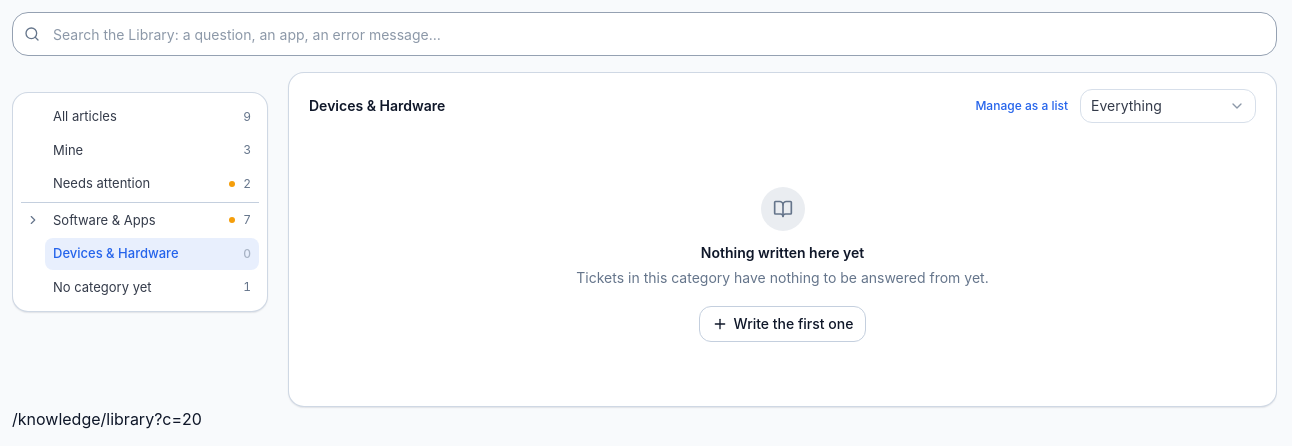
Test: LibraryPanel › an empty category says so and offers to write the first article, filed there
expect the text "Nothing written here yet" is shown: met, box [701,243,864,263]
expect the text "Tickets in this category have nothing to be answered from yet." is shown: met, box [576,267,989,290]
Click the button "Write the first one" at {"x": 782, "y": 324}, box [699,306,866,342]
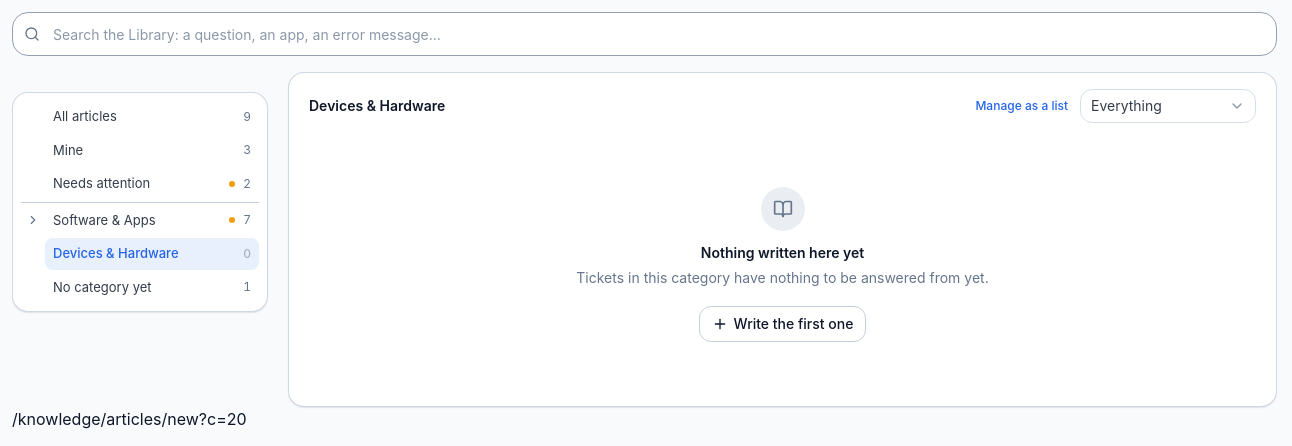
expect the text with test id "where" reads "/knowledge/articles/new?c=20": met, box [12,409,247,429]
